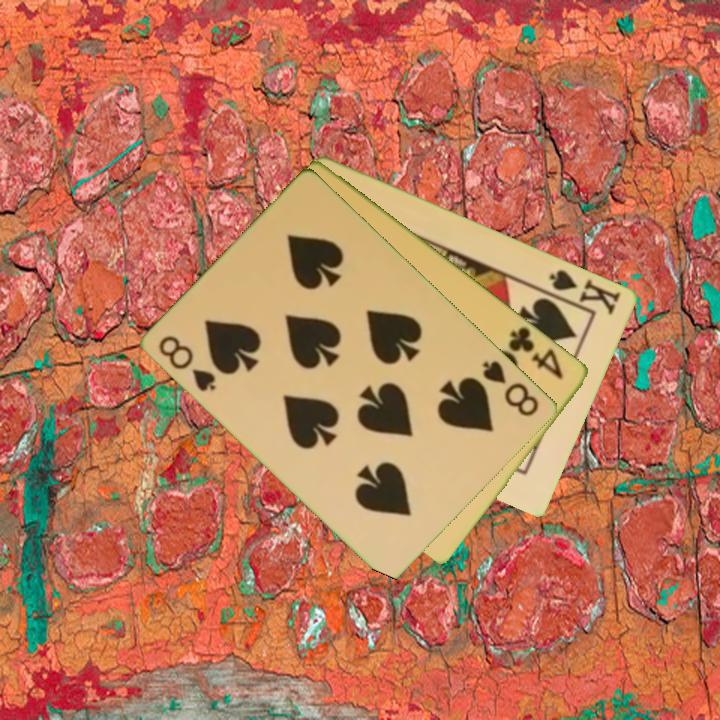4c: (505, 322, 567, 382)
8s: (155, 332, 220, 395), (479, 356, 542, 420)
Ks: (541, 265, 624, 318)
